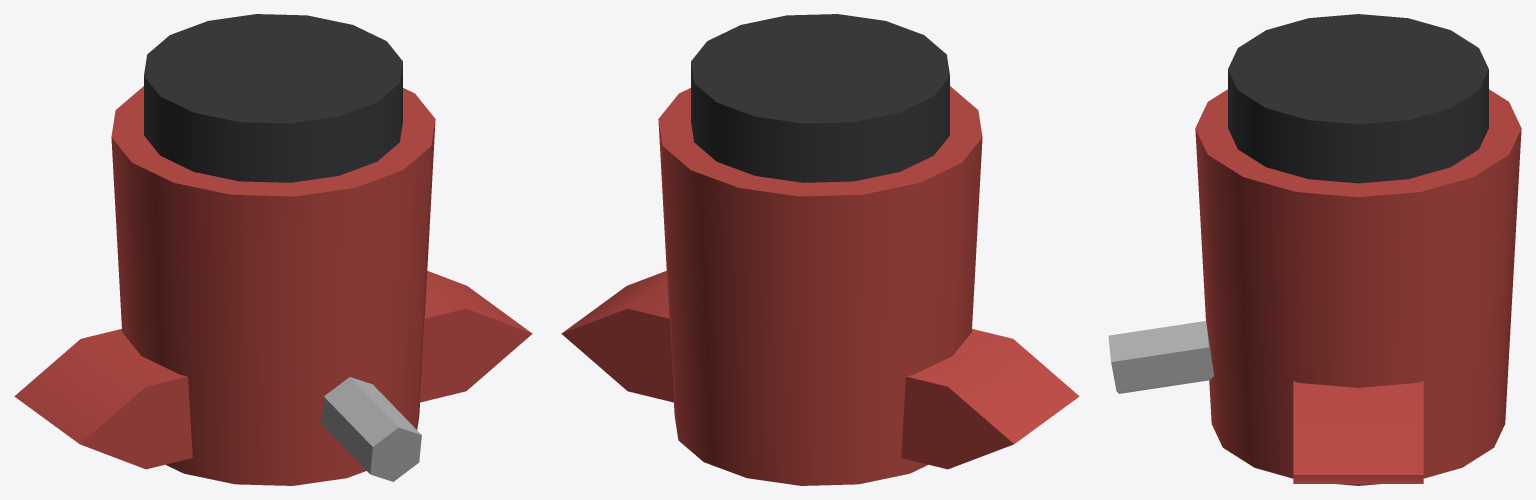
The model's file is rear_master.glb.
The picture shows the model from 3 angles, left to right: view 1: azimuth 30°, elevation 25°; view 2: azimuth 150°, elevation 25°; view 3: azimuth 270°, elevation 25°; orthographic projection.
Parts seen in each view (by area): view 1: lod0; view 2: lod0; view 3: lod0.
Boxes of the visible parts, left/top/right/bottom form: lod0: left=14, top=14, right=532, bottom=485; lod0: left=561, top=14, right=1079, bottom=485; lod0: left=1108, top=14, right=1521, bottom=485.
Size of what is drawn, in the model's own units: 0.064 by 0.048 by 0.0507.
